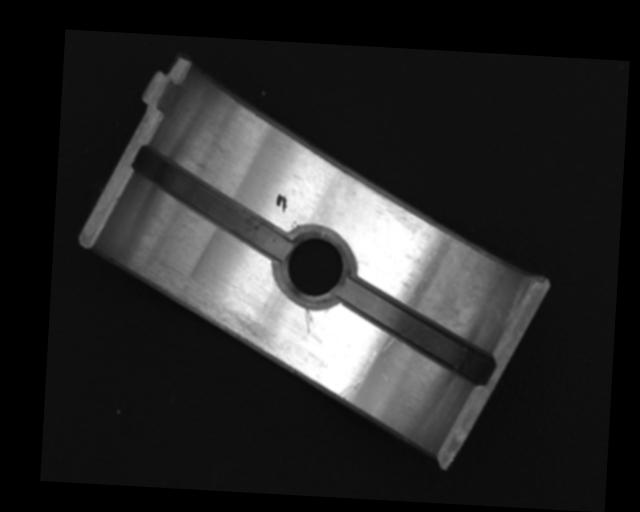blot: (275, 192, 288, 212)
gap: (127, 145, 293, 258), (337, 278, 499, 383)
hole: (272, 225, 357, 310)
nick: (338, 346, 378, 400), (304, 309, 313, 333)
scratch: (127, 264, 281, 355)
